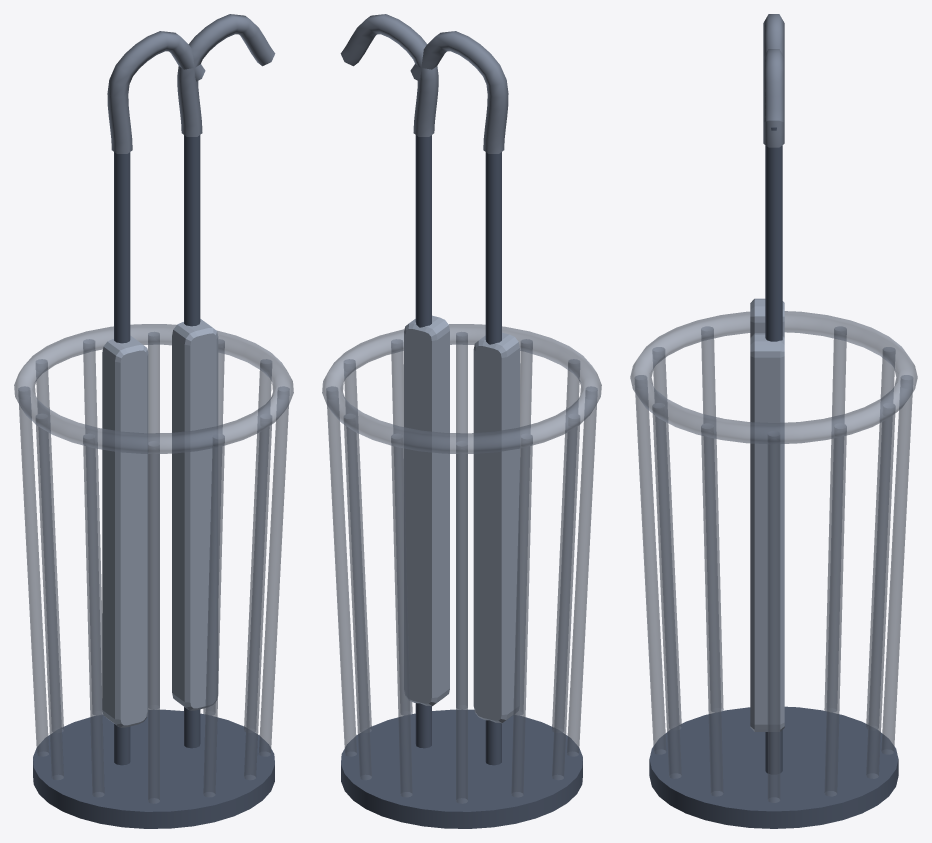
The model's file is umbrella-stand-lite.glb.
The picture shows the model from 3 angles, left to right: view 1: azimuth 30°, elevation 25°; view 2: azimuth 150°, elevation 25°; view 3: azimuth 270°, elevation 25°; orthographic projection. The views are drawn at different scales.
Visible parts, largest first — view 1: body, soft, dark, accent; view 2: body, soft, dark, accent; view 3: body, dark, soft, accent.
Boxes of the visible parts, bbox=[...] form: body: bbox=[14, 324, 293, 803]; soft: bbox=[102, 319, 218, 727]; dark: bbox=[33, 135, 274, 828]; accent: bbox=[107, 14, 275, 153]; body: bbox=[322, 324, 601, 803]; soft: bbox=[404, 315, 519, 723]; dark: bbox=[341, 135, 582, 828]; accent: bbox=[340, 14, 508, 153]; body: bbox=[630, 311, 917, 802]; dark: bbox=[649, 127, 898, 828]; soft: bbox=[750, 298, 784, 731]; accent: bbox=[763, 14, 784, 147].
Size of the model in its own units: 0.268 by 0.7832 by 0.268.
